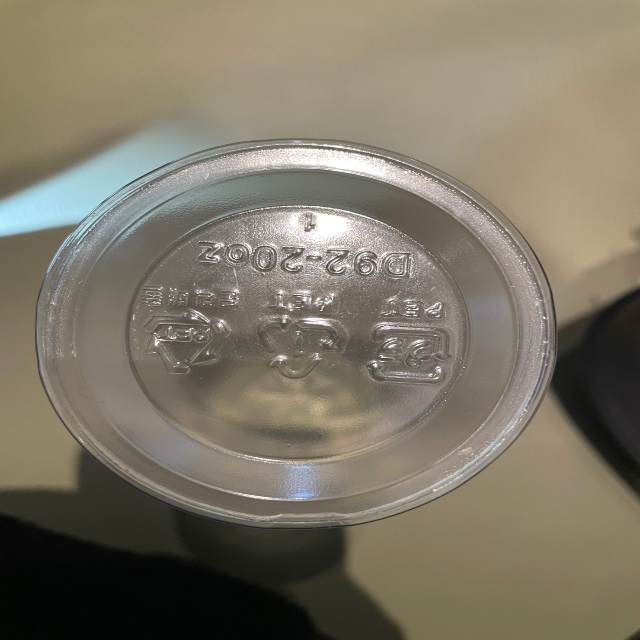pet: (132, 277, 244, 377), (254, 280, 347, 390), (366, 291, 453, 391)
